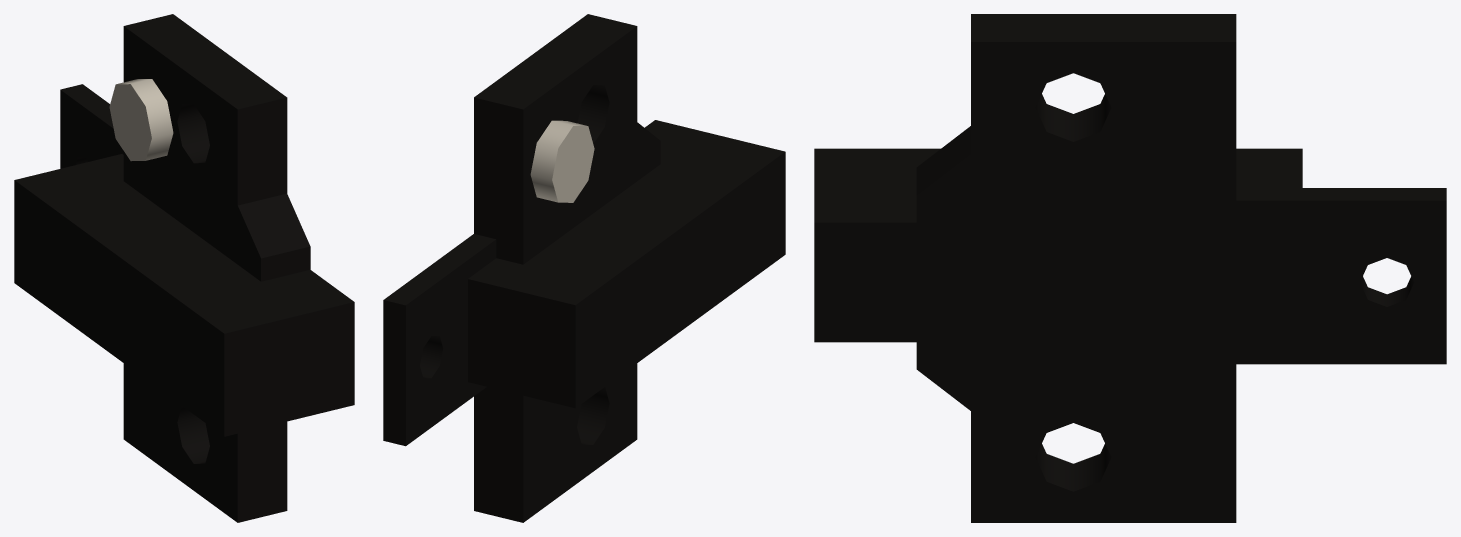
3 renders of one model, left to right at view 1: azimuth 30°, elevation 25°; view 2: azimuth 150°, elevation 25°; view 3: azimuth 270°, elevation 25°, orthographic. The views are drawn at different scales.
Parts seen in each view (by area): view 1: bau0006173292; view 2: bau0006173292; view 3: bau0006173292.
Part boxes in pixels (bbox=[...]): bau0006173292: bbox=[14, 14, 354, 522]; bau0006173292: bbox=[383, 14, 785, 522]; bau0006173292: bbox=[814, 14, 1446, 522].
Bounding box in the file's own units: 14.5 × 44 × 52.45.
